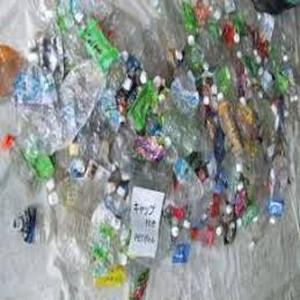Plastic: (10, 202, 92, 244), (74, 10, 119, 75), (164, 138, 207, 200), (125, 70, 165, 134), (215, 90, 243, 156), (267, 157, 291, 225), (169, 224, 192, 293)
